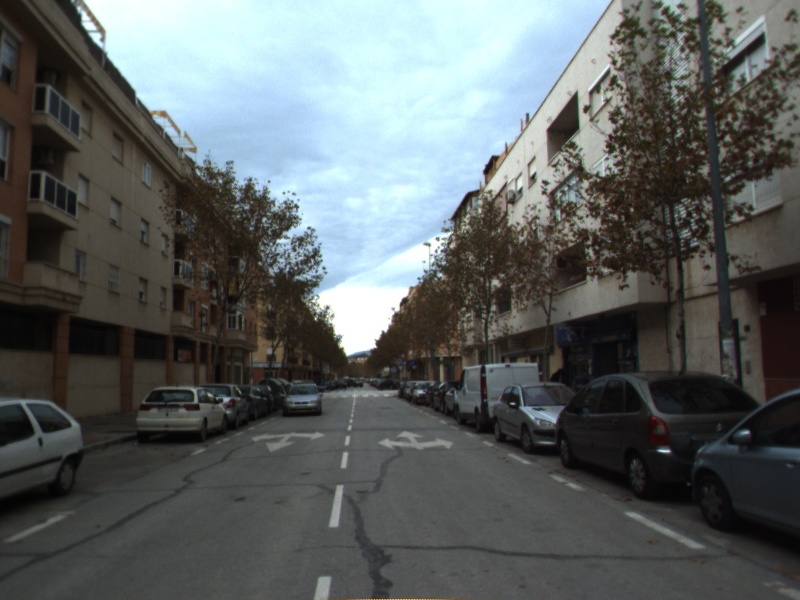STRAIGHT_LEFT_RIGHT: (375, 428, 456, 452)
